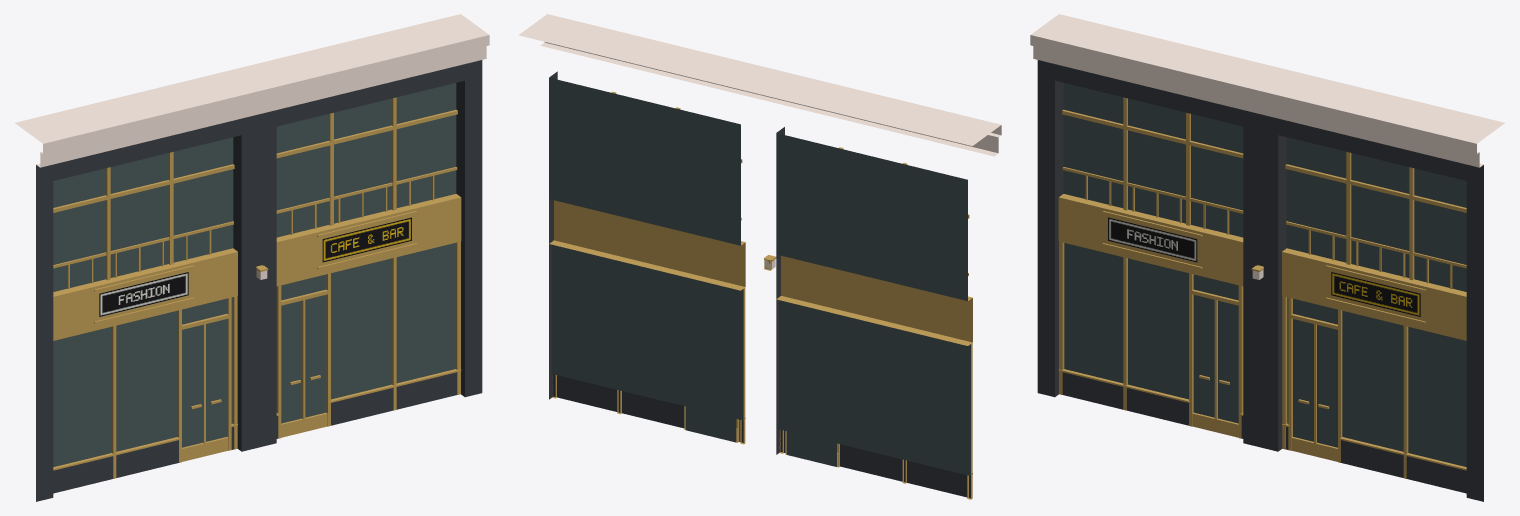
File: base-w1_close.fbx
3 renders of one model, left to right at view 1: azimuth 30°, elevation 25°; view 2: azimuth 150°, elevation 25°; view 3: azimuth 330°, elevation 25°, orthographic.
Parts seen in each view (by area): view 1: a2011/600/base-w1_close; view 2: a2011/600/base-w1_close; view 3: a2011/600/base-w1_close.
Boxes of the visible parts, x1=… form: a2011/600/base-w1_close: x1=15, y1=14, x2=489, y2=501; a2011/600/base-w1_close: x1=519, y1=14, x2=1001, y2=499; a2011/600/base-w1_close: x1=1030, y1=14, x2=1504, y2=501.
Bounding box in the file's own units: 9 × 7 × 1.
